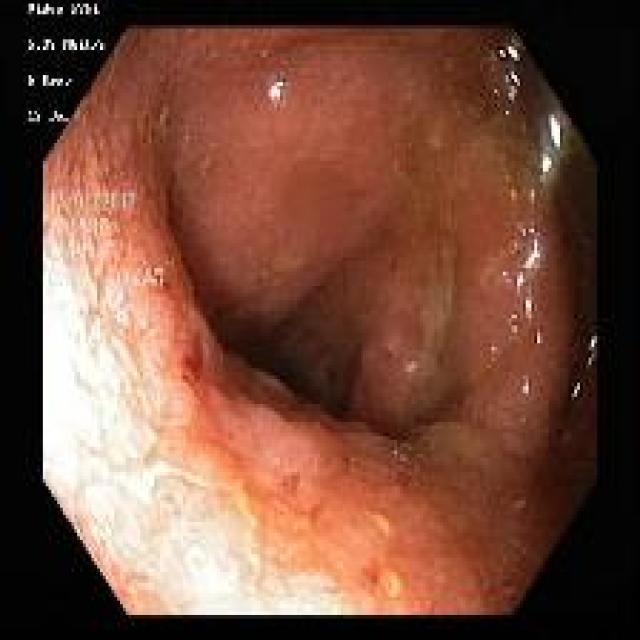ulcerative-colitis: (44, 28, 596, 615)
